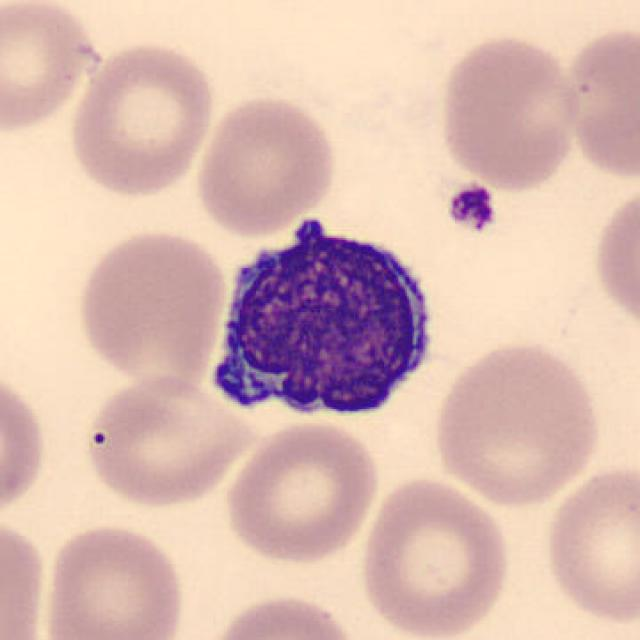Lymphocyte: (194, 203, 446, 432)
Platelets: (444, 180, 498, 236)
RBC: (428, 337, 606, 508), (356, 473, 516, 638), (65, 37, 218, 201), (73, 226, 229, 386), (80, 372, 258, 510), (220, 418, 382, 566), (436, 32, 583, 194), (190, 90, 342, 238), (38, 518, 188, 640), (538, 458, 640, 629), (0, 0, 105, 138), (556, 21, 638, 182), (201, 589, 363, 640), (0, 363, 50, 527), (588, 178, 638, 339), (0, 511, 50, 640)
